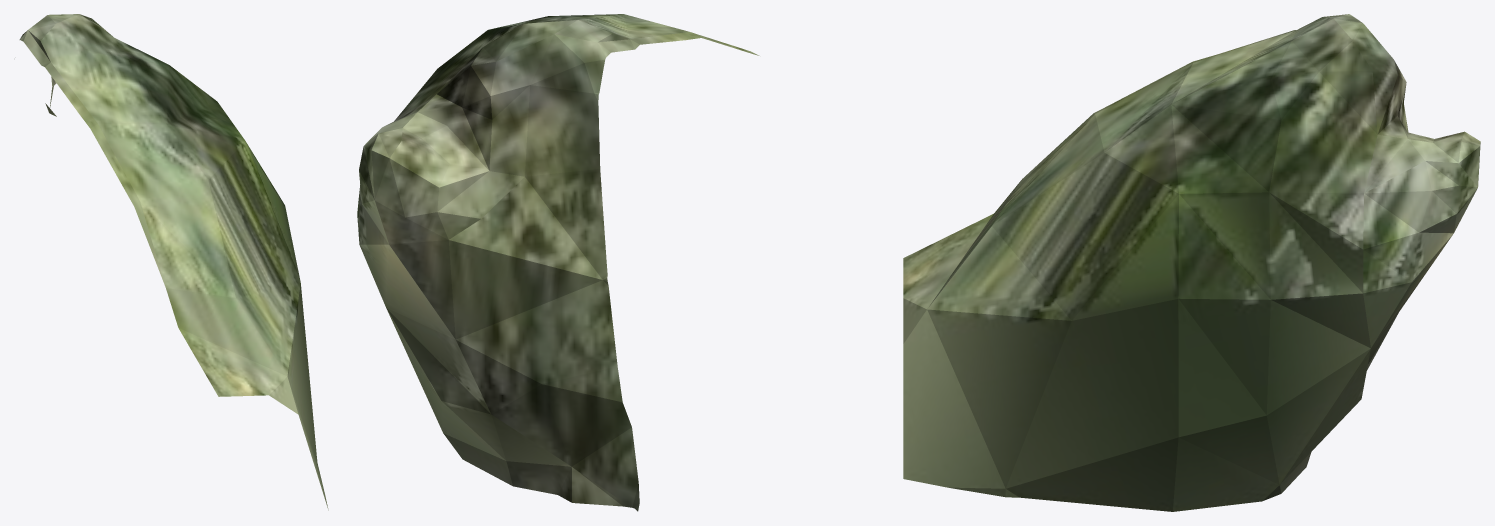
3 renders of one model, left to right at view 1: azimuth 30°, elevation 25°; view 2: azimuth 150°, elevation 25°; view 3: azimuth 270°, elevation 25°, orthographic. The views are drawn at different scales.
Size of the model in its own units: 0.8492 by 1.54 by 1.93.
1 material, 1 textured.
